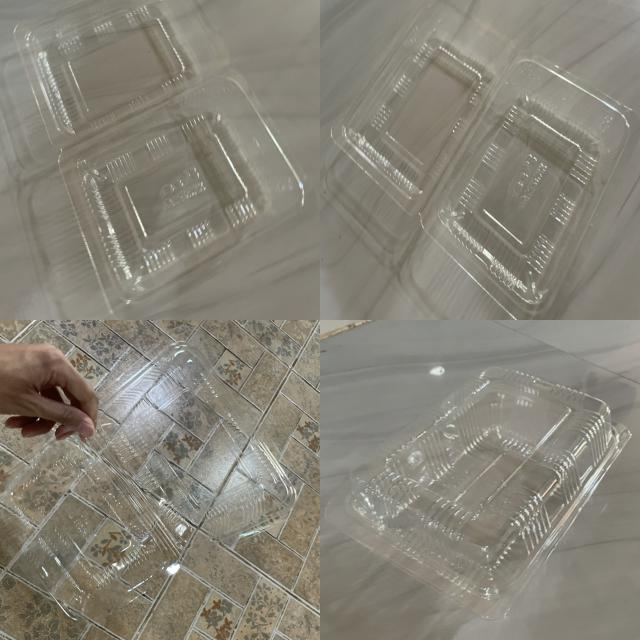Single-Use-Plastic: (332, 2, 638, 317), (15, 0, 305, 316), (0, 342, 296, 621), (326, 368, 630, 618)
